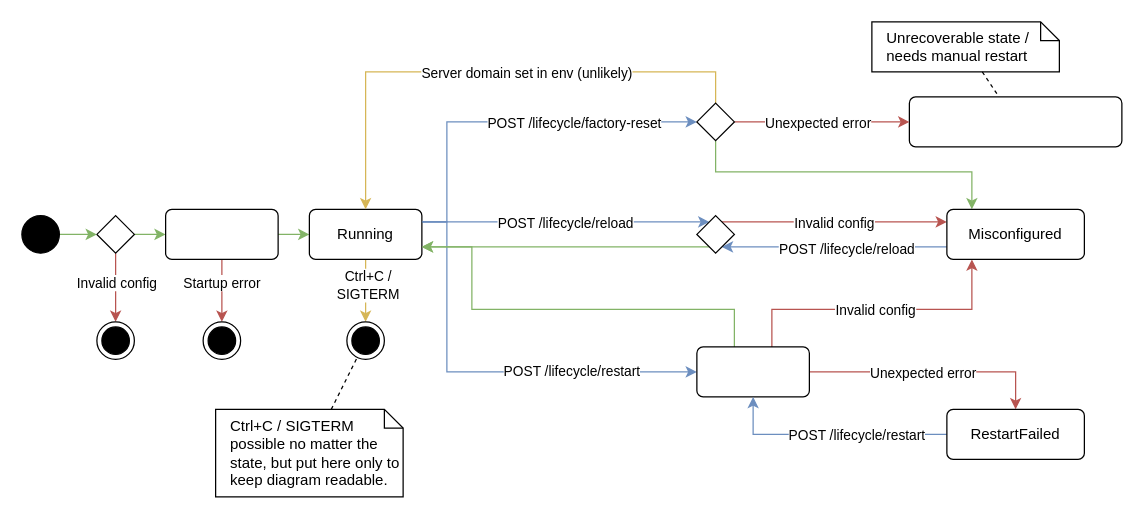
Some shapes in this 1144 by 519 pixel diagram are drawn without their labels. Each missing label, with the box of its shape:
Restarting: (696, 346, 809, 397)
Starting: (164, 208, 278, 259)
UndergoingFactoryReset: (908, 96, 1122, 147)
